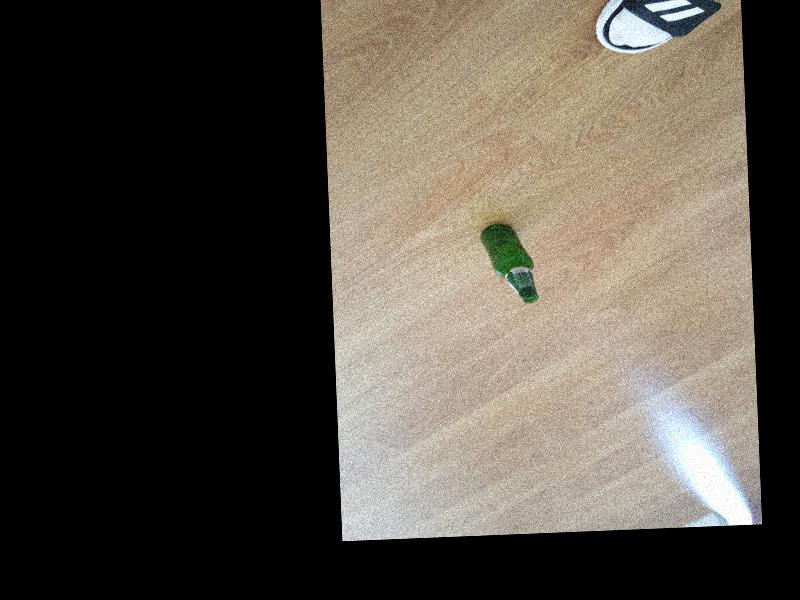Beer: (482, 222, 538, 303)
